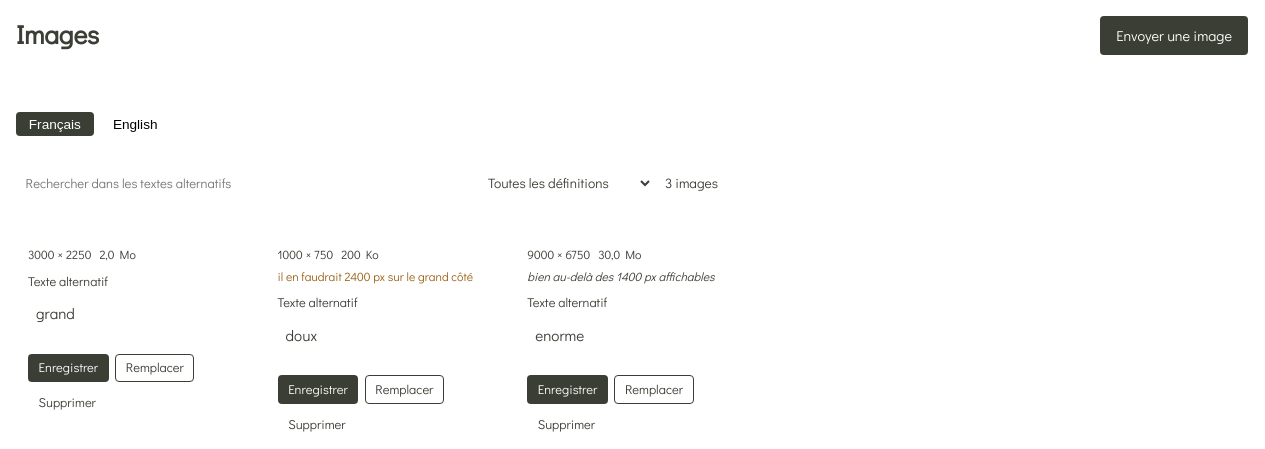
Test: MediaLibrary resolution › filters to the soft ones, and counts them in the option
Select "Définition insuffisante (1)" in the dropdown named "Filtrer par définition" at x=564, y=183, box [476,167,653,200]
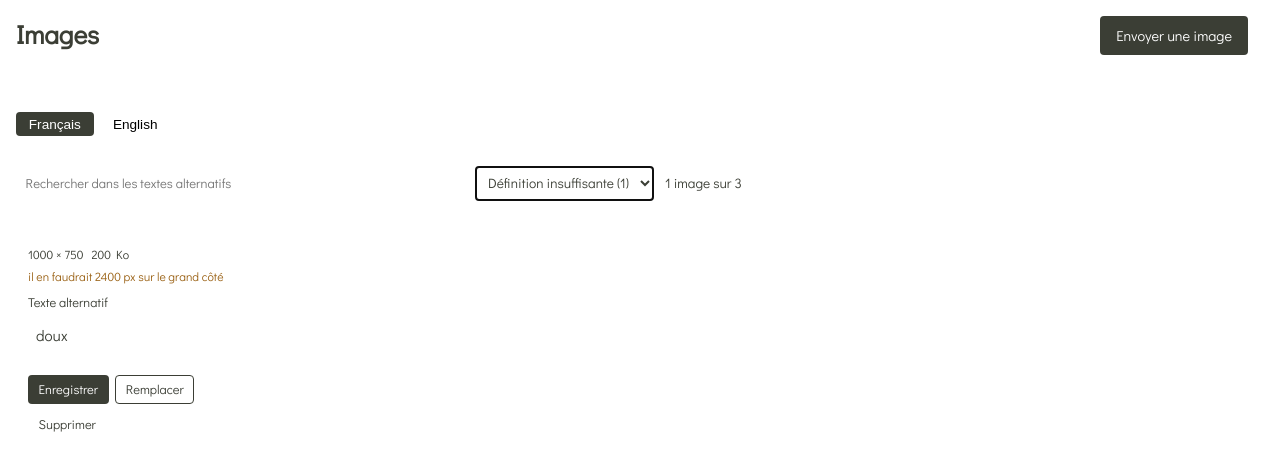
Expected: the text "1 image sur 3" is shown, [665,173,742,195]
